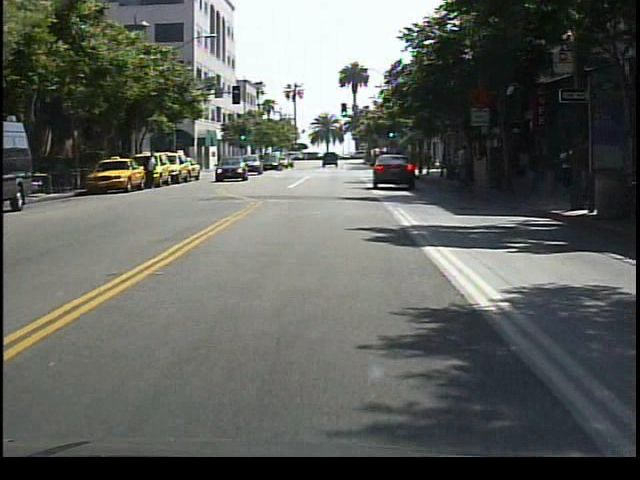person: (452, 139, 474, 197), (145, 148, 162, 193)
